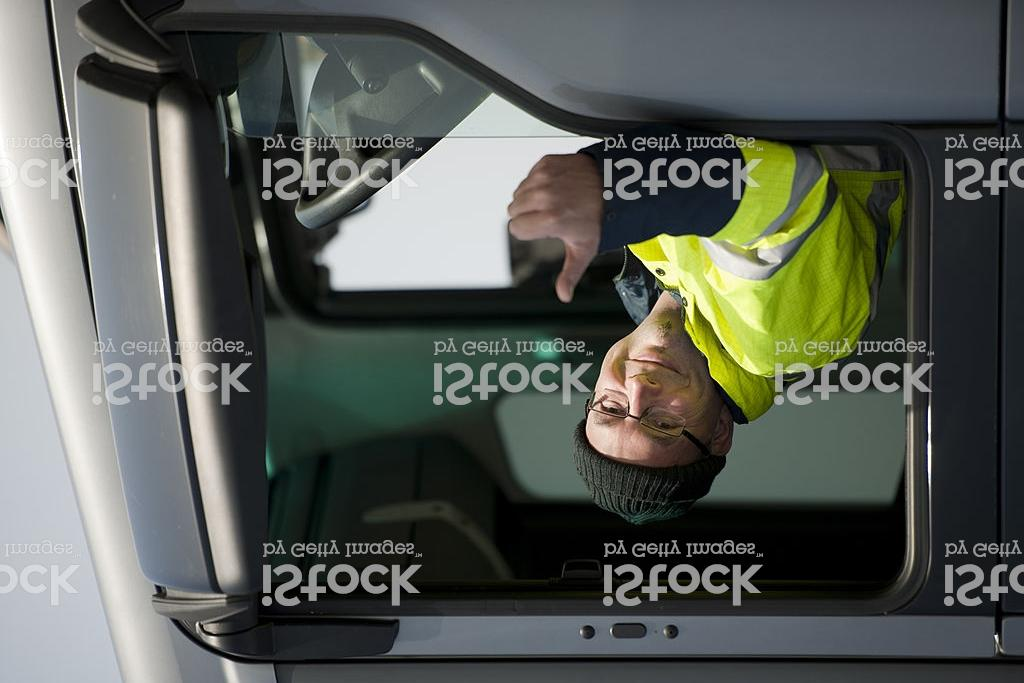thumbsdown: (507, 153, 585, 304)
